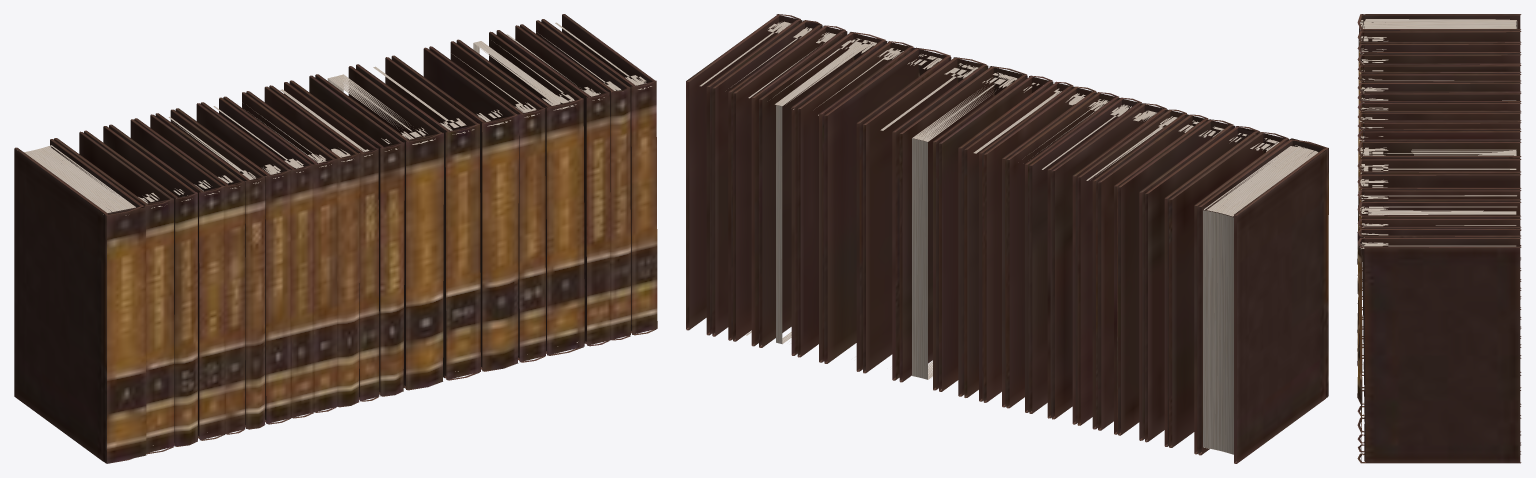
Rendered from isl_books.glb.
The picture shows the model from 3 angles, left to right: view 1: azimuth 30°, elevation 25°; view 2: azimuth 150°, elevation 25°; view 3: azimuth 270°, elevation 25°; orthographic projection. The views are drawn at different scales.
Parts seen in each view (by area): view 1: book_encyclopedia_set_01_book01; view 2: book_encyclopedia_set_01_book01; view 3: book_encyclopedia_set_01_book01.
Part boxes in pixels (x1=…): book_encyclopedia_set_01_book01: x1=14, y1=14, x2=657, y2=463; book_encyclopedia_set_01_book01: x1=686, y1=14, x2=1328, y2=463; book_encyclopedia_set_01_book01: x1=1357, y1=14, x2=1521, y2=463.
Bounding box in the file's own units: 0.5525 × 0.2374 × 0.1637.
2 materials, 2 textured.
